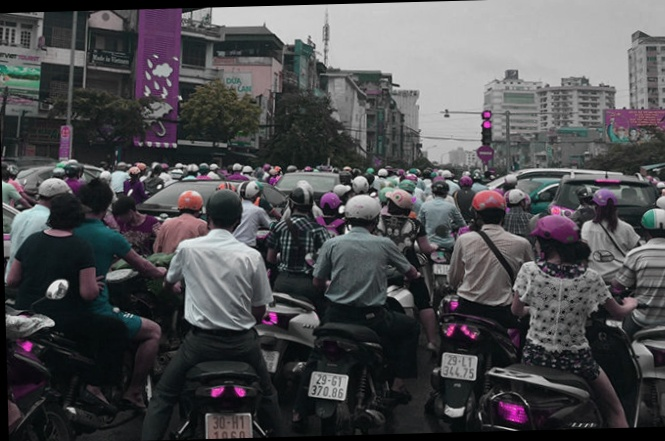Bien-so: (286, 376, 325, 408), (415, 350, 452, 383), (634, 383, 665, 417), (186, 419, 232, 441), (239, 355, 258, 381), (406, 261, 423, 275)
